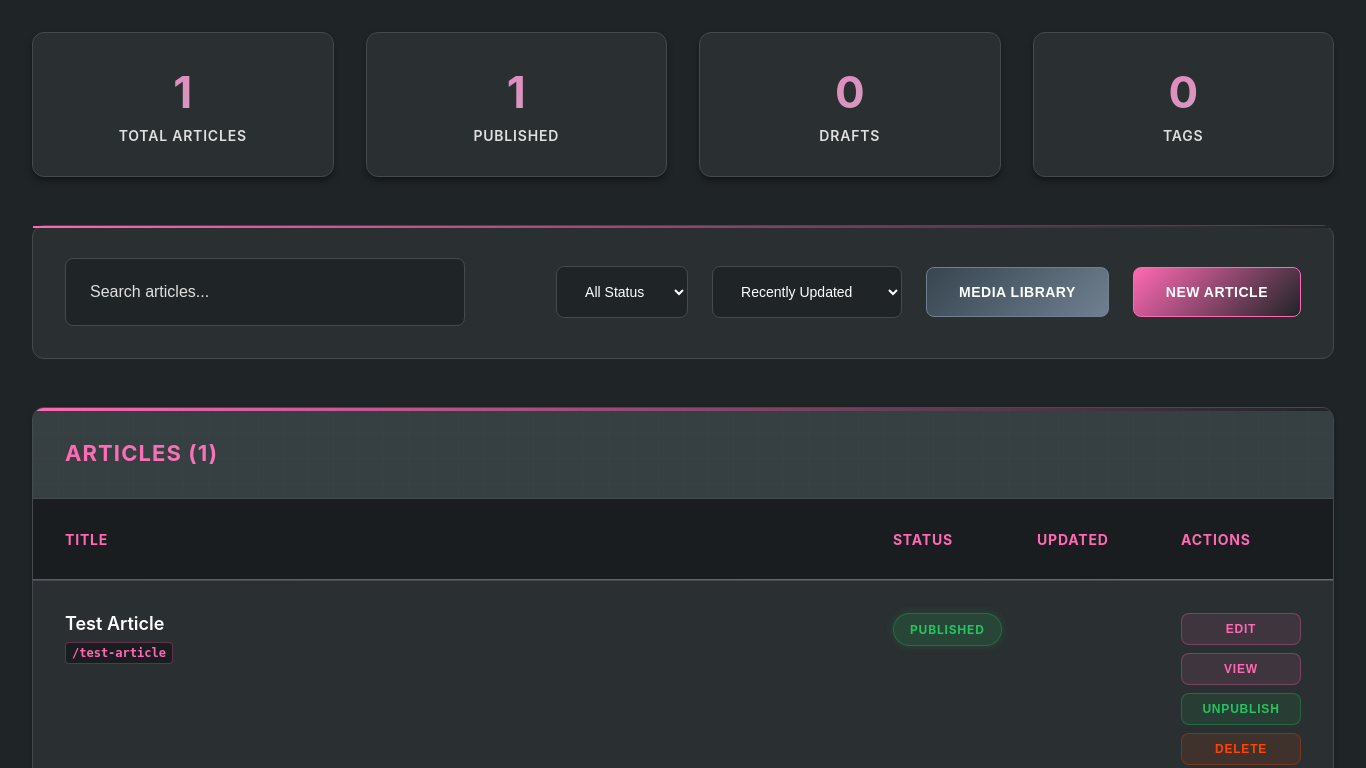
Test: AdminDashboard › editArticle › does not open editor when content fetch fails
Step 1. Click the button with class "edit-button" → point(1241, 629), box [1181,613,1301,645]
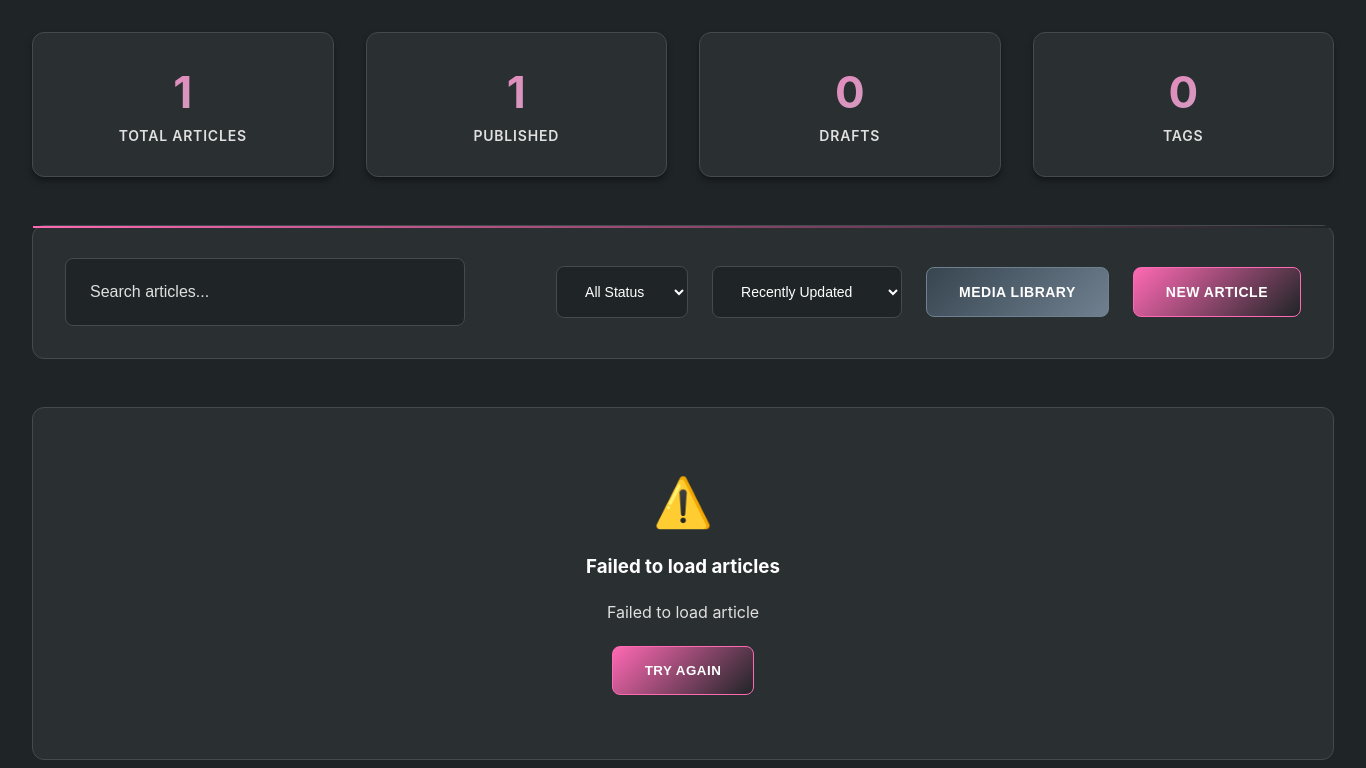
Now the text "Failed to load article" is shown, box [607,602,759,622]
